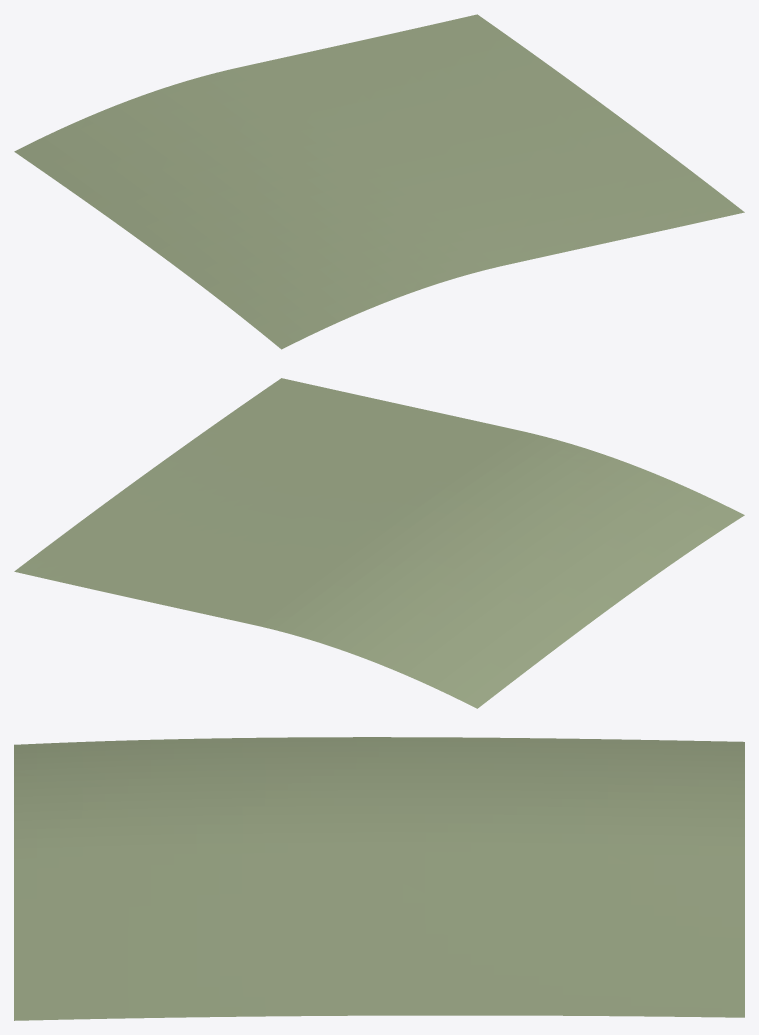
File: expanse-26-13.glb
3 views of the same model, one above another, from view 1: azimuth 30°, elevation 25°; view 2: azimuth 150°, elevation 25°; view 3: azimuth 270°, elevation 25° (orthographic). The views are drawn at different scales.
Visible parts, largest first — view 1: expanse-26-13; view 2: expanse-26-13; view 3: expanse-26-13.
Boxes of the visible parts, bbox=[...] form: expanse-26-13: bbox=[14, 14, 744, 349]; expanse-26-13: bbox=[14, 378, 744, 708]; expanse-26-13: bbox=[14, 737, 744, 1020].
Bounding box in the file's own units: 256 × 18.35 × 256.
